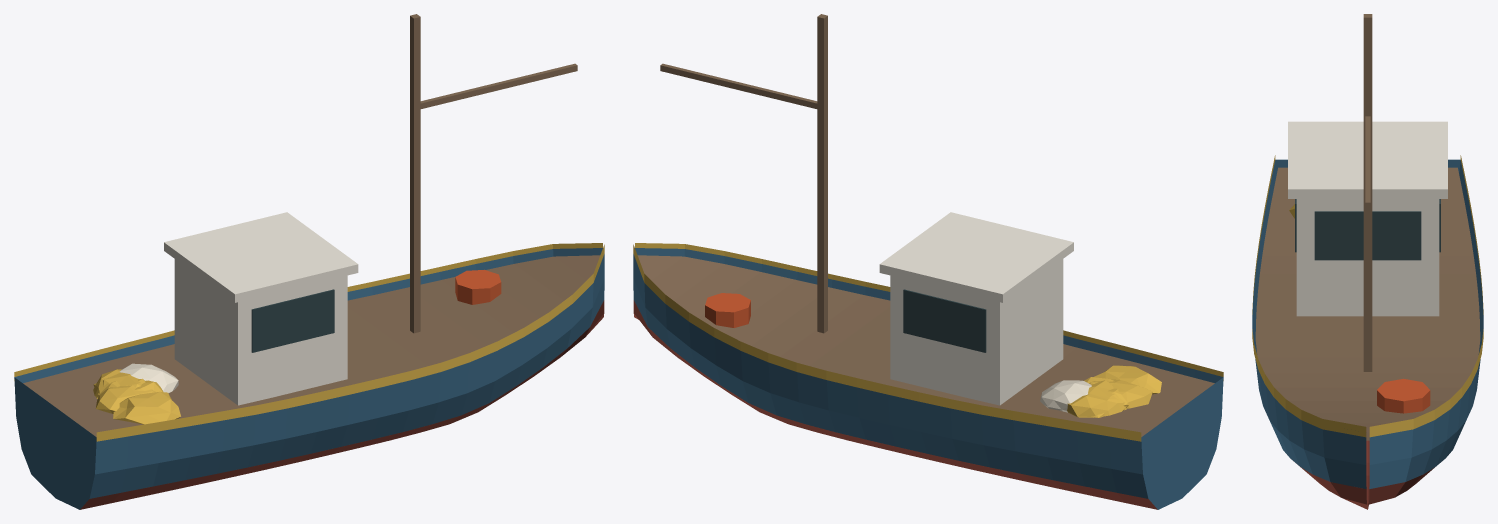
File: balikci-teknesi-mavi.glb
The picture shows the model from 3 angles, left to right: view 1: azimuth 30°, elevation 25°; view 2: azimuth 150°, elevation 25°; view 3: azimuth 270°, elevation 25°; orthographic projection. The views are drawn at different scales.
Parts seen in each view (by area): view 1: tekne_mavi, ahsap, tekne_beyaz, tekne_sari, cam, karina, can, ip; view 2: tekne_mavi, ahsap, tekne_beyaz, tekne_sari, cam, karina, can, ip; view 3: ahsap, tekne_beyaz, tekne_mavi, cam, tekne_sari, karina, can.
Part boxes in pixels (x1,y1,x2,y2): tekne_mavi: (14,248,604,509); ahsap: (23,14,600,436); tekne_beyaz: (164,212,358,405); tekne_sari: (14,243,604,441); cam: (251,289,334,352); karina: (80,300,604,509); can: (455,269,501,304); ip: (119,363,178,393); tekne_mavi: (633,248,1223,509); ahsap: (637,14,1214,436); tekne_beyaz: (879,212,1073,405); tekne_sari: (633,243,1223,441); cam: (903,289,986,352); karina: (633,300,1157,509); can: (705,293,750,327); ip: (1040,380,1091,412); ahsap: (1255,14,1480,440); tekne_beyaz: (1288,121,1447,316); tekne_mavi: (1252,159,1483,488); cam: (1295,199,1440,260); tekne_sari: (1252,155,1483,437); karina: (1293,440,1434,509); can: (1377,378,1430,413).
Bounding box in the file's own units: 8 × 5.5 × 2.6.
